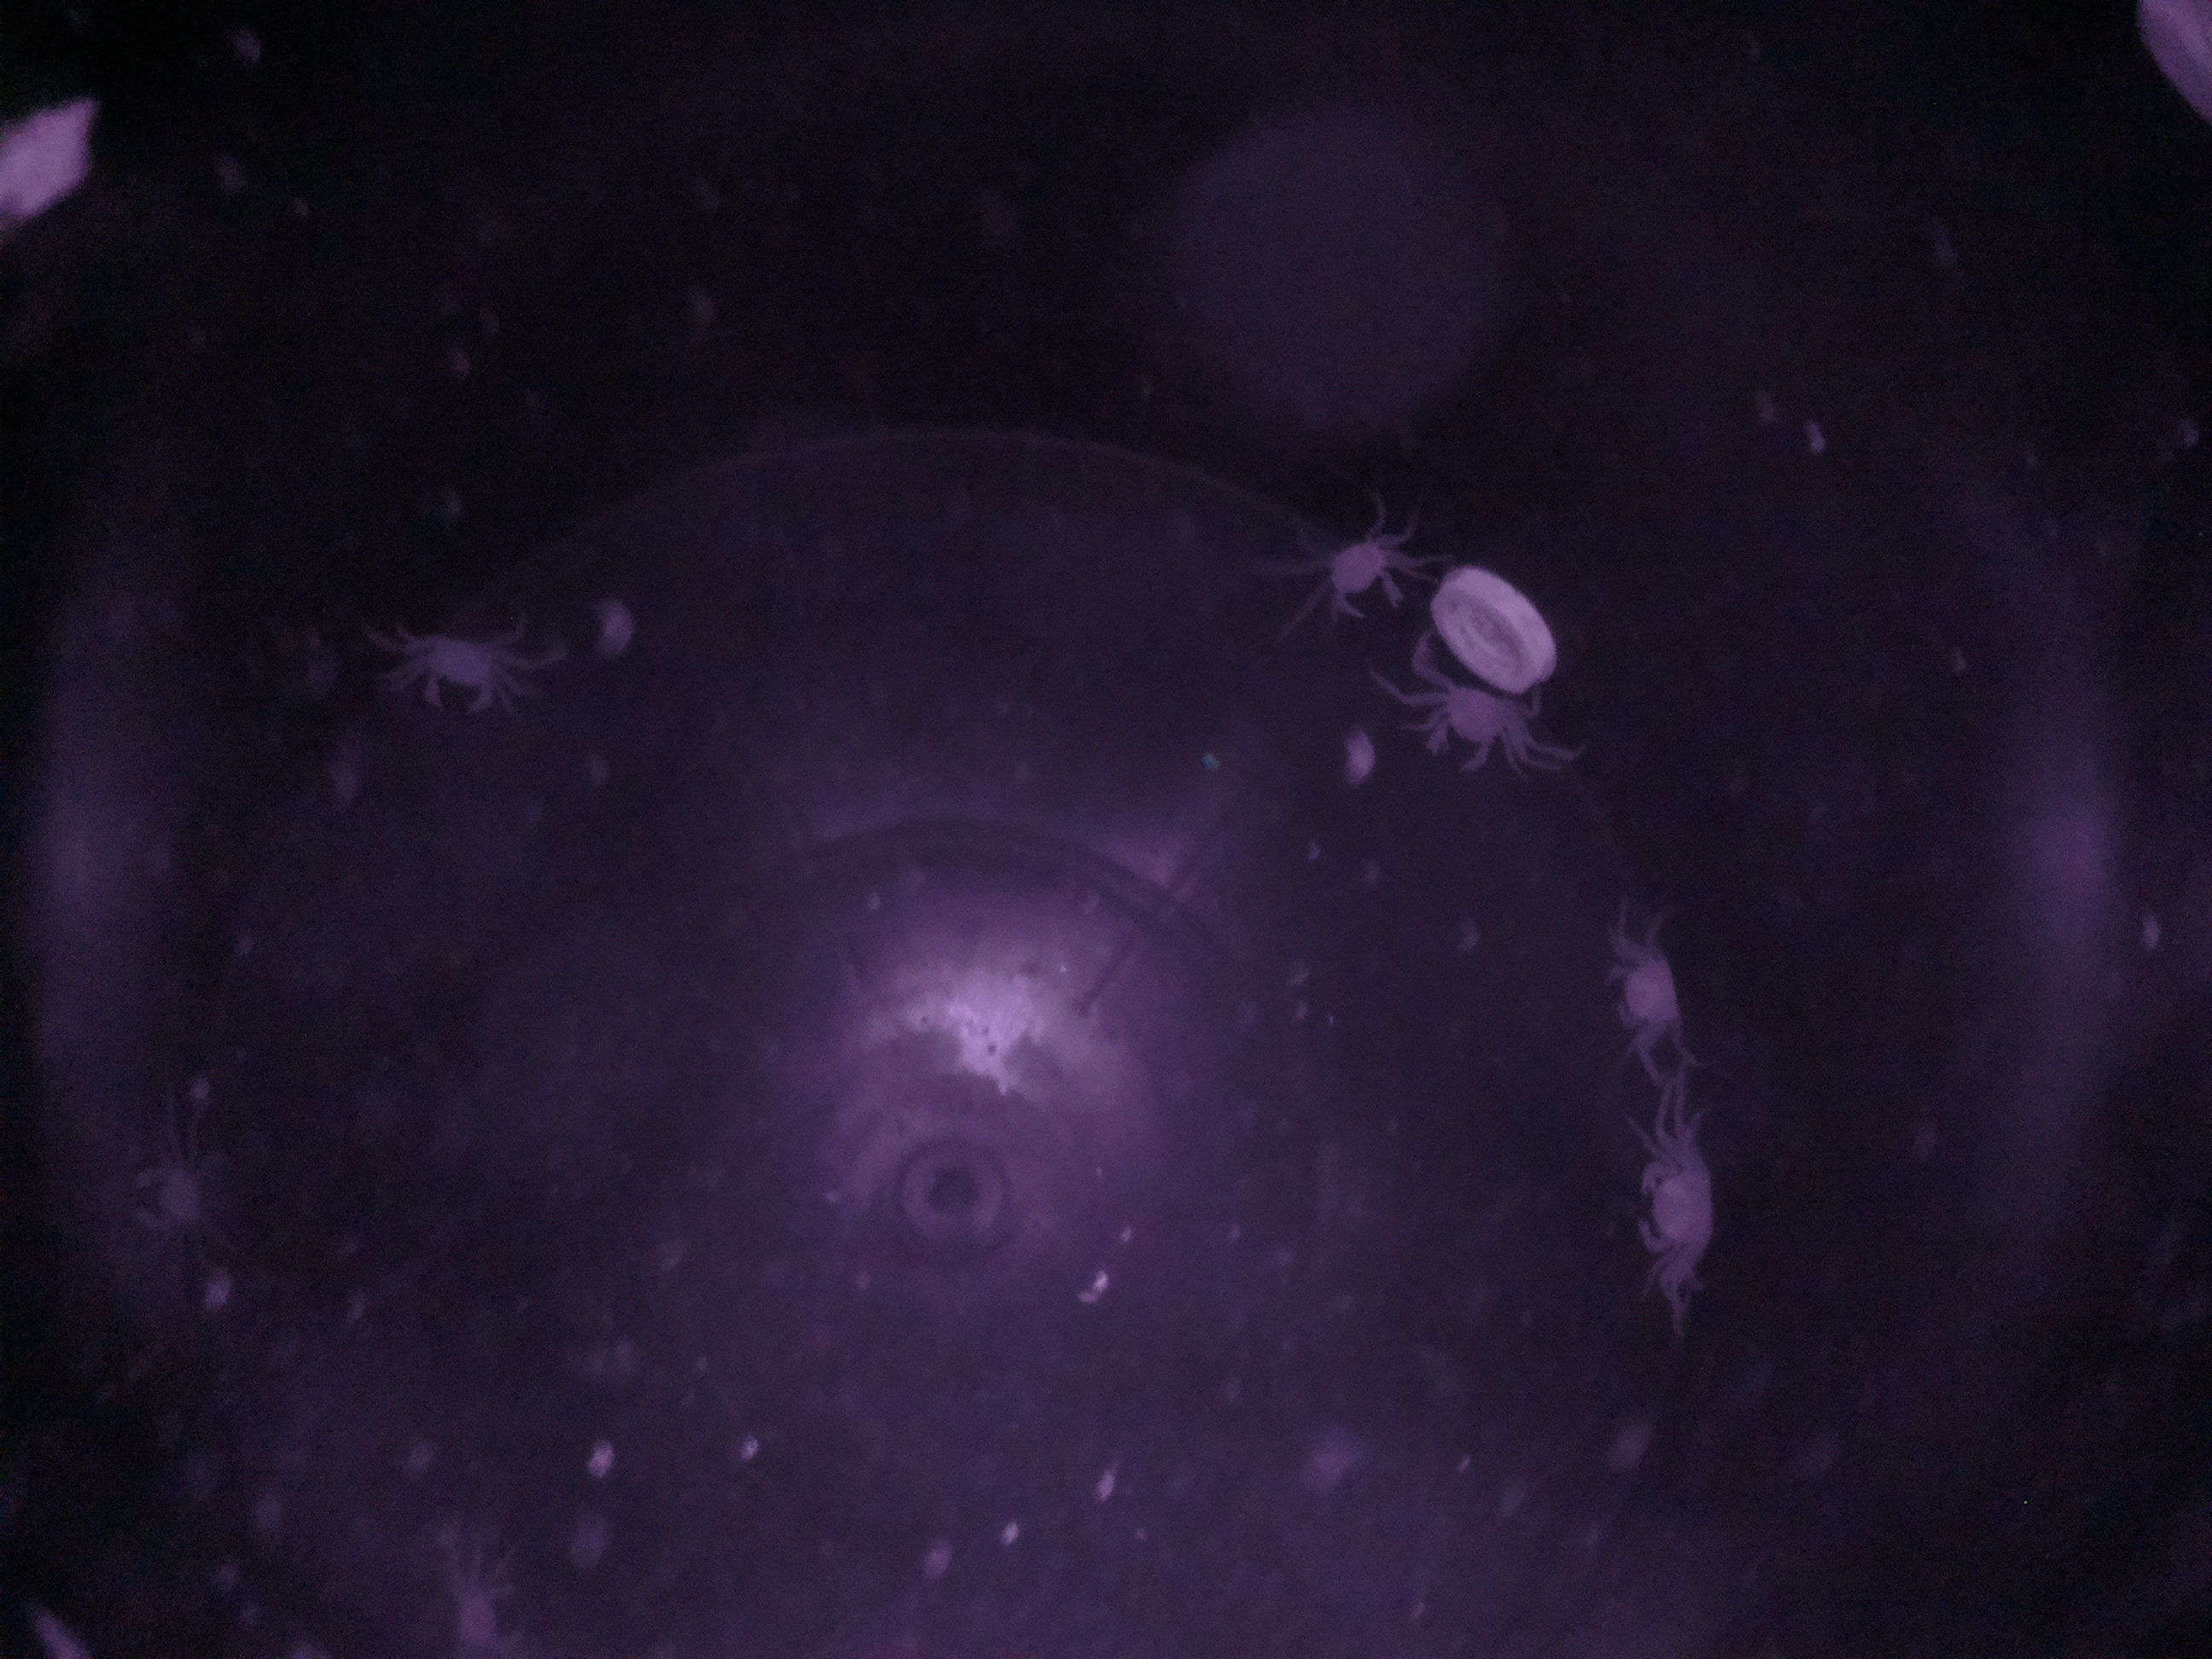Crab: (1611, 1127, 1740, 1267), (1581, 932, 1710, 1063), (1402, 660, 1517, 793), (1299, 523, 1416, 638), (411, 617, 521, 734)
